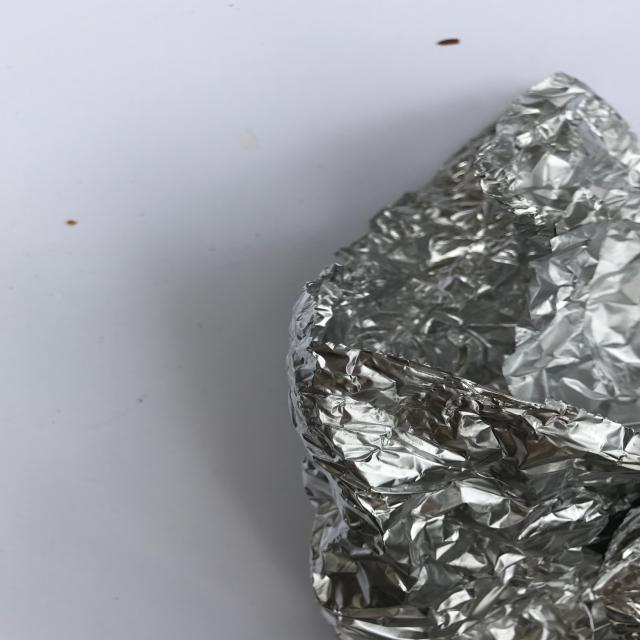metal: (285, 70, 640, 640)
